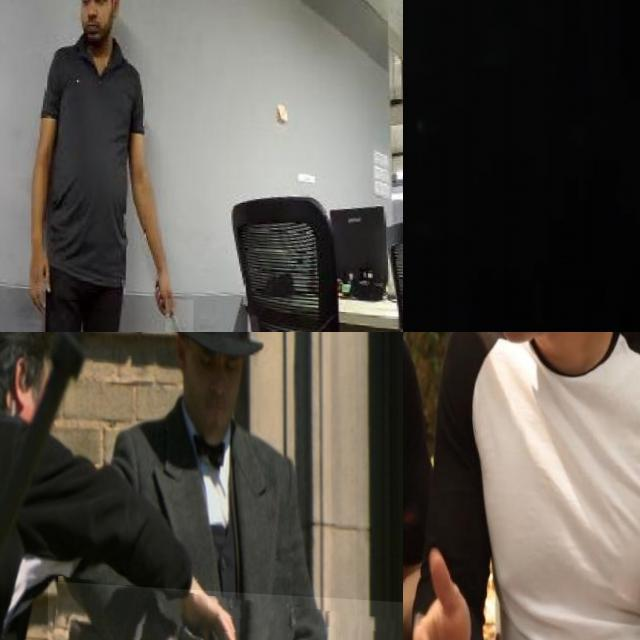-: (403, 359, 442, 547), (166, 295, 194, 332)
gun-knife-thesis - v11 Yolov5 augmented: (47, 578, 403, 640), (403, 0, 427, 65)
